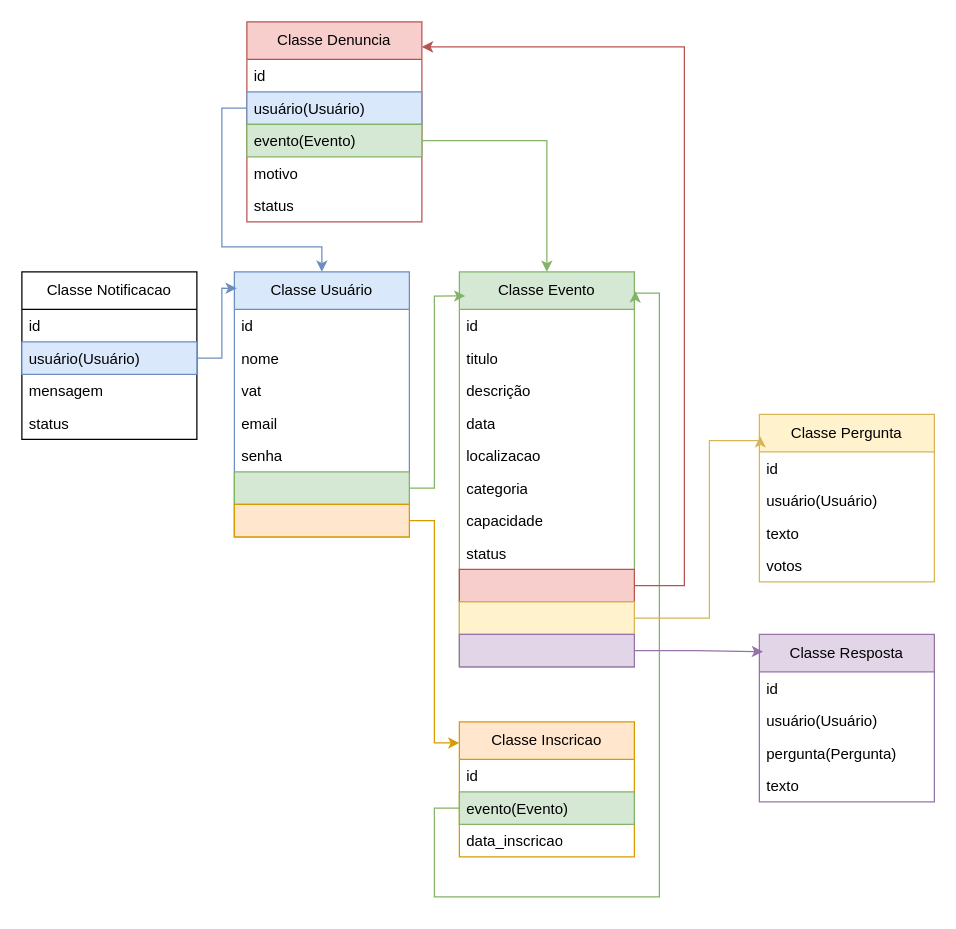
Some shapes in this 956 by 929 pixel diagram are drawn without their labels. The shapes that lost their labels are listed below. From the top down, each one's centre as x and y in pixels, then its label:
At point (321, 487): "meusEventos(Evento)".
At point (321, 520): "inscrição(Inscrição)".
At point (546, 585): "denucias(Denuncia)".
At point (546, 617): "perguntas(Pergunta)".
At point (546, 650): "respostas(Resposta)".
